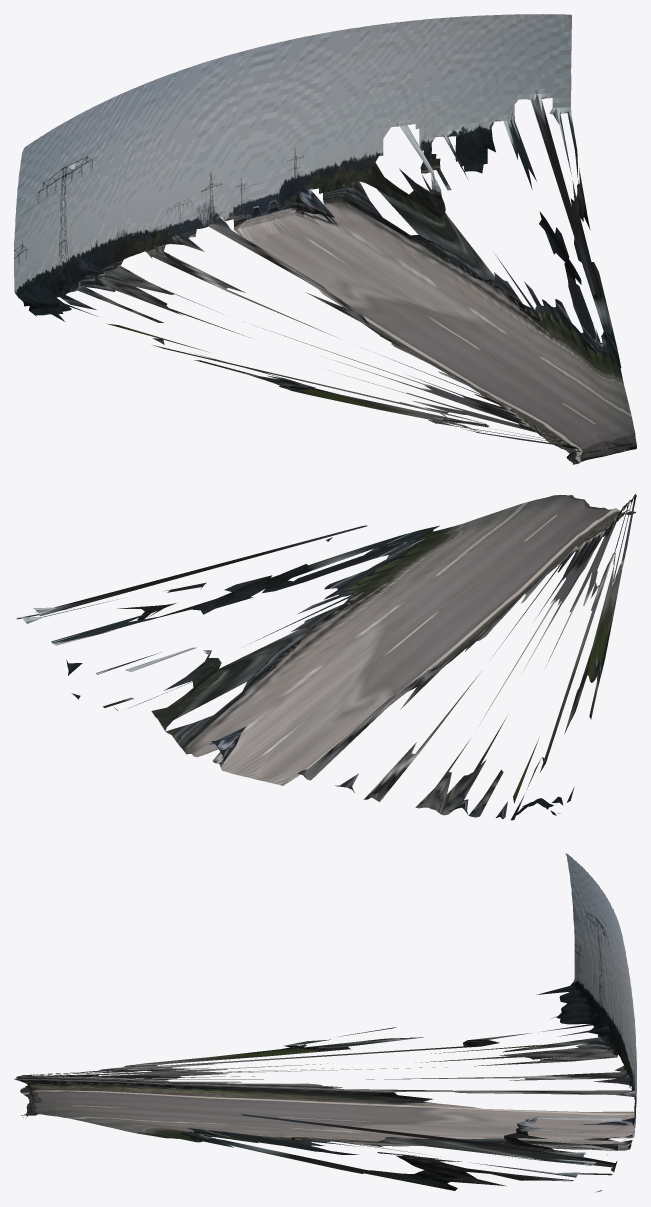
3 renders of one model, top to bottom at view 1: azimuth 30°, elevation 25°; view 2: azimuth 150°, elevation 25°; view 3: azimuth 270°, elevation 25°, orthographic. The views are drawn at different scales.
Parts seen in each view (by area): view 1: defaultobject; view 2: defaultobject; view 3: defaultobject.
Part boxes in pixels (left/top/right/bottom): defaultobject: left=14, top=14, right=636, bottom=464; defaultobject: left=16, top=493, right=636, bottom=820; defaultobject: left=14, top=853, right=636, bottom=1192.
Size of the model in its own units: 41.12 by 13.7 by 45.04.
Materials: 1 (1 with a texture image).
